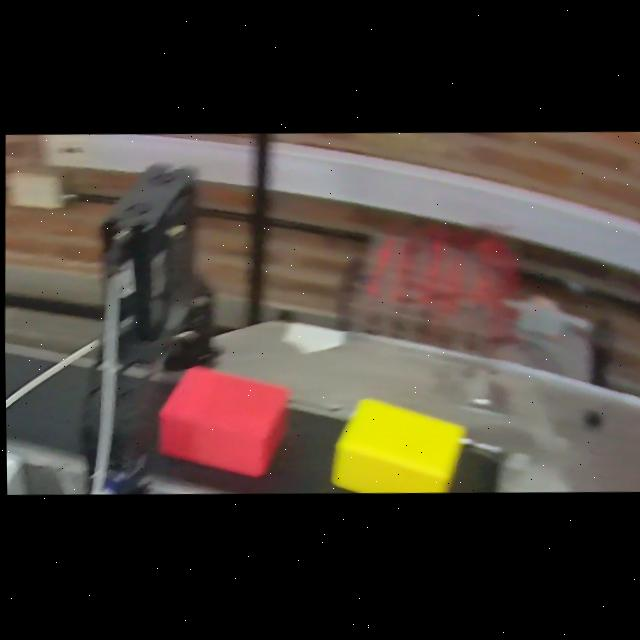redBox: (150, 363, 294, 485), (330, 391, 466, 496)
